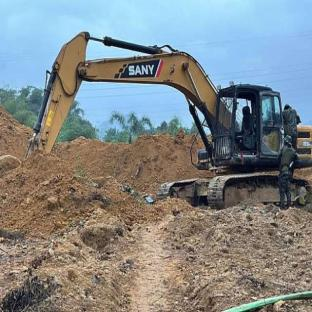ExcavationMachinery: (32, 24, 312, 224)
